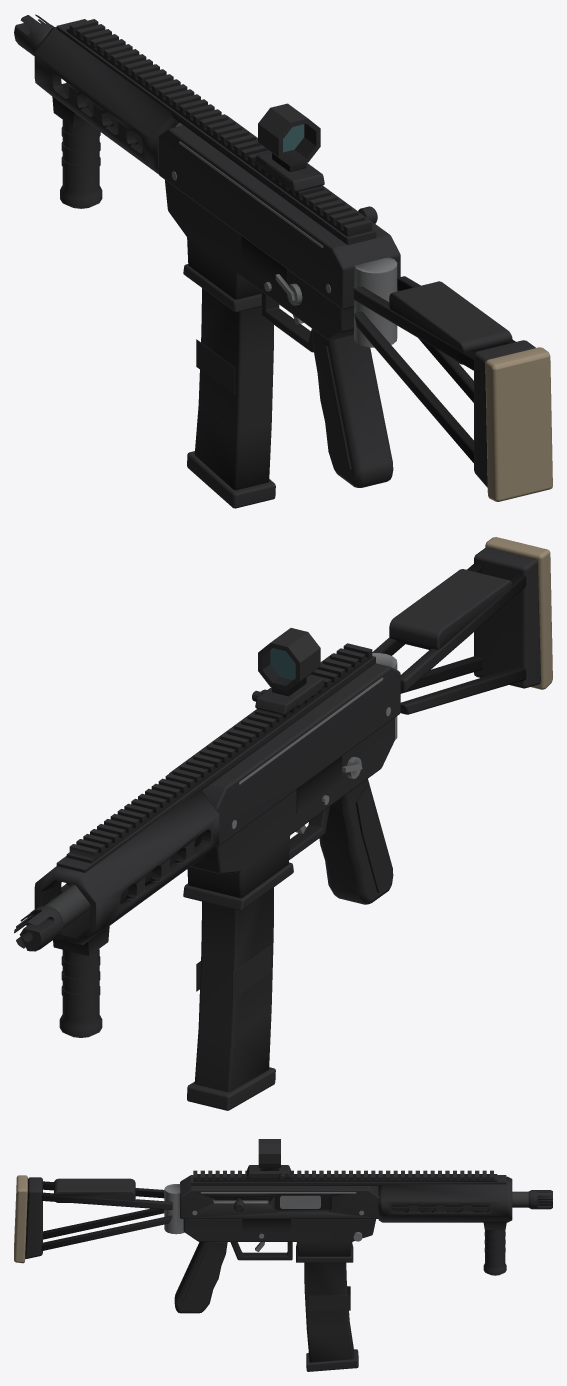
Rendered from kestrel_smg.glb.
3 views of the same model, one above another, from view 1: azimuth 30°, elevation 25°; view 2: azimuth 150°, elevation 25°; view 3: azimuth 270°, elevation 25° (orthographic). The views are drawn at different scales.
Visible parts, largest first — view 1: Receiver, FoldingStock, Magazine, Grip, Barrel; view 2: Receiver, FoldingStock, Magazine, Grip, Barrel; view 3: Receiver, FoldingStock, Magazine, Grip, Barrel, Bolt.
Part boxes in pixels (box(x1,y1,x2,y2)): Receiver: box(34, 19, 400, 352); FoldingStock: box(353, 257, 552, 501); Magazine: box(187, 288, 275, 508); Grip: box(312, 329, 393, 487); Barrel: box(14, 14, 183, 127); Receiver: box(34, 628, 400, 1037); FoldingStock: box(372, 537, 552, 740); Magazine: box(187, 887, 275, 1110); Grip: box(319, 779, 393, 904); Barrel: box(14, 884, 90, 951); Receiver: box(180, 1139, 512, 1275); FoldingStock: box(14, 1175, 184, 1263); Magazine: box(304, 1262, 358, 1371); Grip: box(174, 1242, 227, 1313); Barrel: box(391, 1190, 552, 1209); Bolt: box(280, 1195, 320, 1208).
Bounding box in the file's own units: 0.0775 × 0.3356 × 0.7269.
